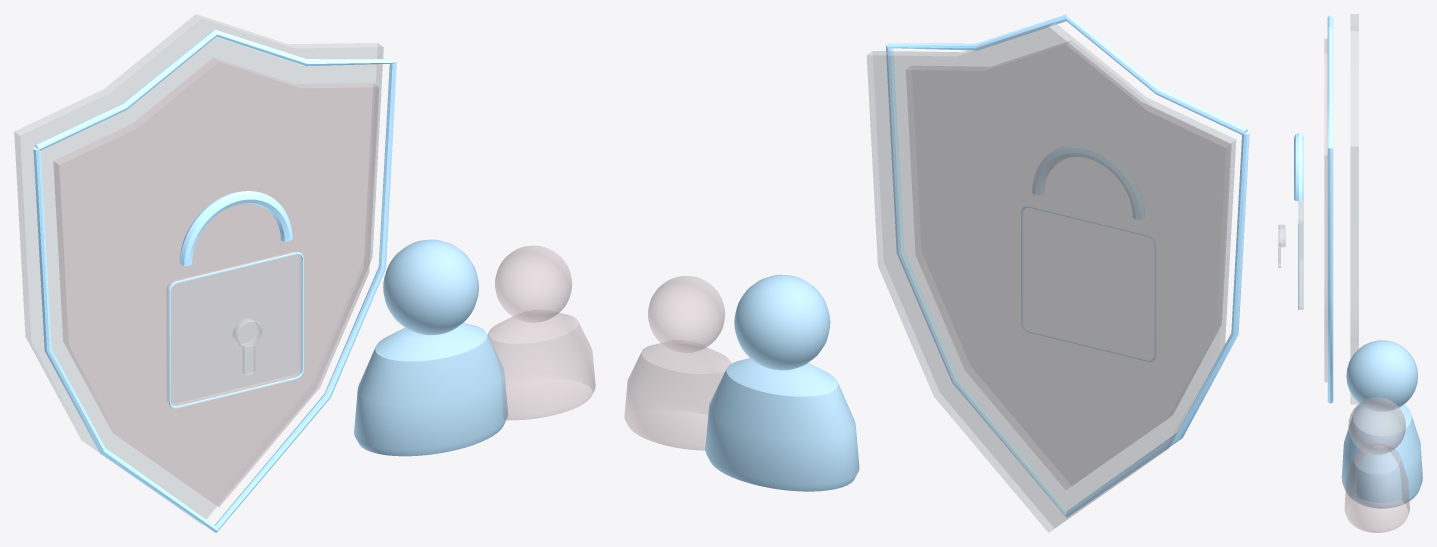
File: 37-access-control.glb
3 renders of one model, left to right at view 1: azimuth 30°, elevation 25°; view 2: azimuth 150°, elevation 25°; view 3: azimuth 270°, elevation 25°, orthographic. The views are drawn at different scales.
Parts seen in each view (by area): view 1: BC thin clear technical glass, BC subtle ruby technical glass, BC etched pale glass, BC cool glass edge; view 2: BC thin clear technical glass, BC subtle ruby technical glass, BC etched pale glass, BC cool glass edge; view 3: BC etched pale glass, BC subtle ruby technical glass, BC thin clear technical glass, BC cool glass edge.
Part boxes in pixels (x1,y1,x2,y2): BC thin clear technical glass: [14, 14, 383, 524]; BC subtle ruby technical glass: [53, 57, 595, 507]; BC etched pale glass: [354, 239, 508, 456]; BC cool glass edge: [33, 29, 396, 532]; BC thin clear technical glass: [866, 22, 1236, 532]; BC subtle ruby technical glass: [624, 40, 1231, 489]; BC etched pale glass: [705, 274, 859, 491]; BC cool glass edge: [885, 14, 1249, 517]; BC etched pale glass: [1341, 340, 1422, 508]; BC subtle ruby technical glass: [1324, 38, 1409, 532]; BC thin clear technical glass: [1278, 14, 1358, 404]; BC cool glass edge: [1294, 15, 1333, 403].
Size of the model in its own units: 2.02 by 1.66 by 0.5748.
